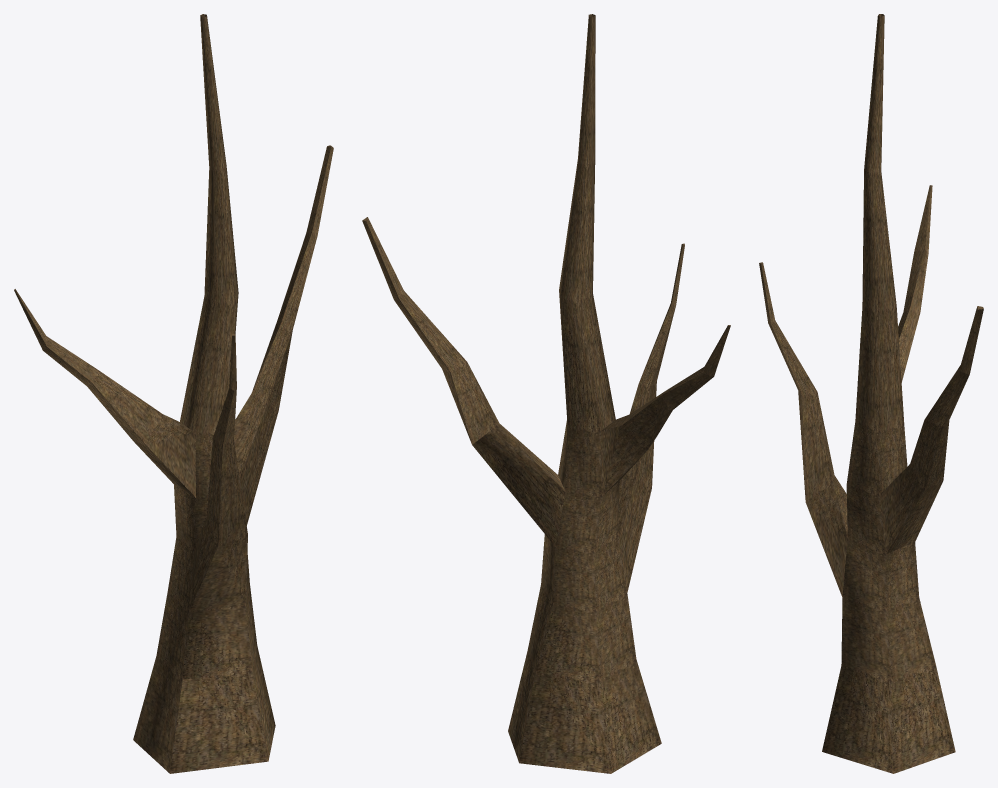
Rendered from gen_tree_trunk_only.fbx.
3 views of the same model, side by side, from view 1: azimuth 30°, elevation 25°; view 2: azimuth 150°, elevation 25°; view 3: azimuth 270°, elevation 25° (orthographic).
Parts seen in each view (by area): view 1: lod_high; view 2: lod_high; view 3: lod_high.
Boxes of the visible parts, bbox=[...] form: lod_high: bbox=[14, 14, 333, 773]; lod_high: bbox=[362, 14, 730, 773]; lod_high: bbox=[759, 14, 983, 773].
Size of the model in its own units: 1261 by 2572 by 727.
1 material, 1 textured.
